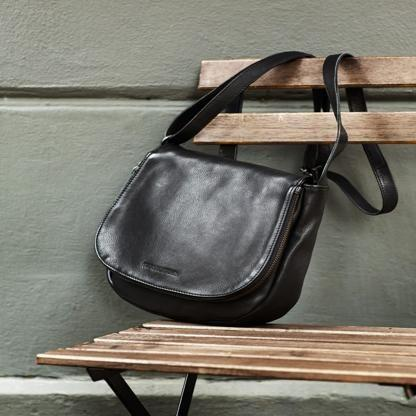not trash: (98, 59, 400, 322)
